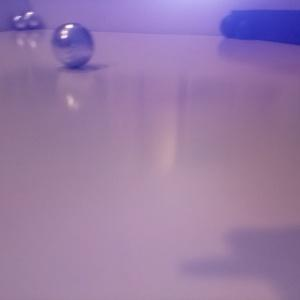alive_ball: (51, 22, 94, 67), (23, 10, 40, 28), (12, 14, 26, 29)
dead_ball: (219, 14, 241, 37), (235, 19, 256, 39)
